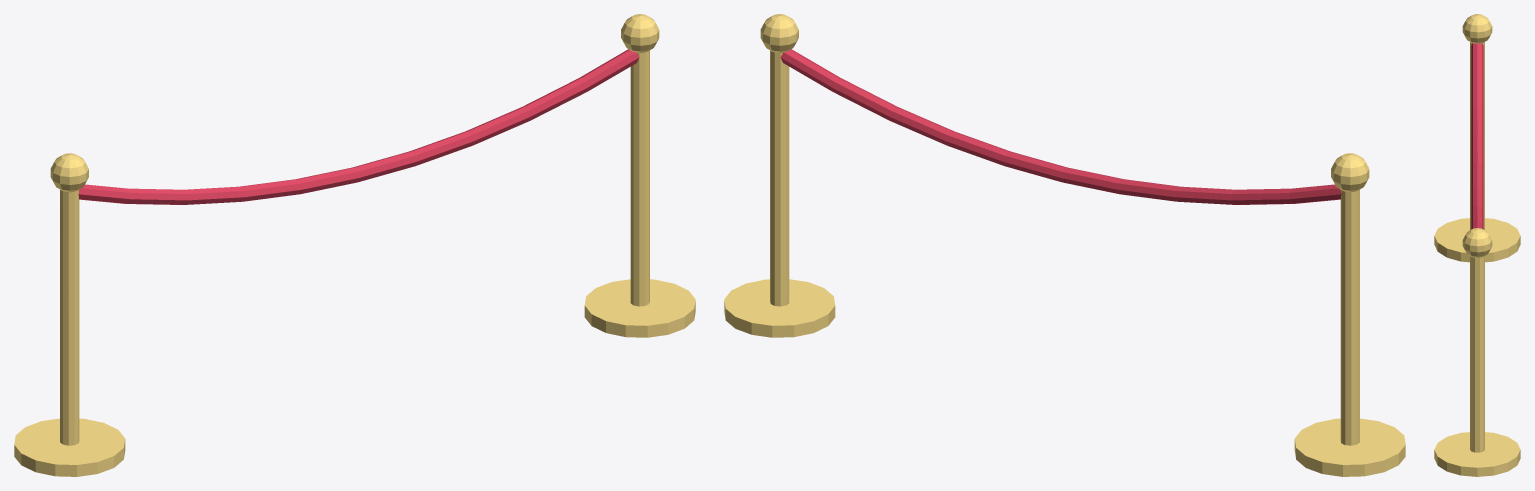
The model's file is SM_Heaven_VelvetRopeStanchions.glb.
3 renders of one model, left to right at view 1: azimuth 30°, elevation 25°; view 2: azimuth 150°, elevation 25°; view 3: azimuth 270°, elevation 25°, orthographic. The views are drawn at different scales.
Parts seen in each view (by area): view 1: SM_Heaven_VelvetRopeStanchions; view 2: SM_Heaven_VelvetRopeStanchions; view 3: SM_Heaven_VelvetRopeStanchions.
Boxes of the visible parts, box(x1,y1,x2,y2) form: SM_Heaven_VelvetRopeStanchions: box(14, 14, 695, 476); SM_Heaven_VelvetRopeStanchions: box(724, 14, 1405, 476); SM_Heaven_VelvetRopeStanchions: box(1434, 14, 1520, 476).
Bounding box in the file's own units: 2.34 × 1 × 0.34.
